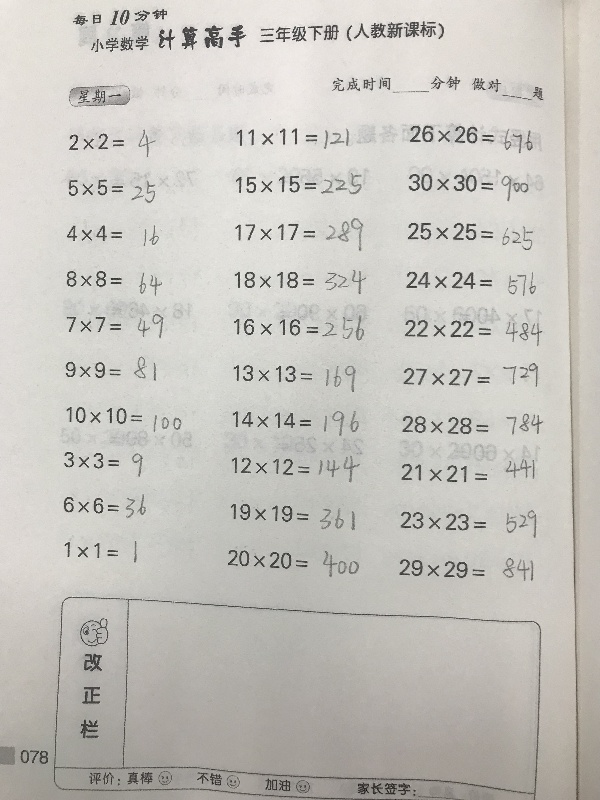equation: (231, 299, 371, 341), (231, 208, 366, 249), (227, 497, 359, 536), (395, 550, 542, 585), (398, 452, 539, 488), (401, 403, 542, 439), (227, 543, 359, 581), (64, 398, 184, 438), (395, 504, 540, 537), (403, 265, 537, 299), (399, 359, 542, 390), (404, 313, 547, 344), (229, 361, 359, 395), (231, 406, 361, 440), (231, 449, 361, 483), (232, 266, 370, 298), (404, 170, 533, 204), (232, 115, 352, 151), (404, 219, 537, 251), (405, 121, 537, 152), (232, 170, 366, 198), (66, 262, 165, 296), (62, 444, 147, 481), (58, 532, 143, 569), (64, 171, 160, 203), (65, 125, 161, 157), (68, 219, 164, 251), (61, 351, 159, 382), (63, 310, 165, 338), (59, 491, 149, 522)
